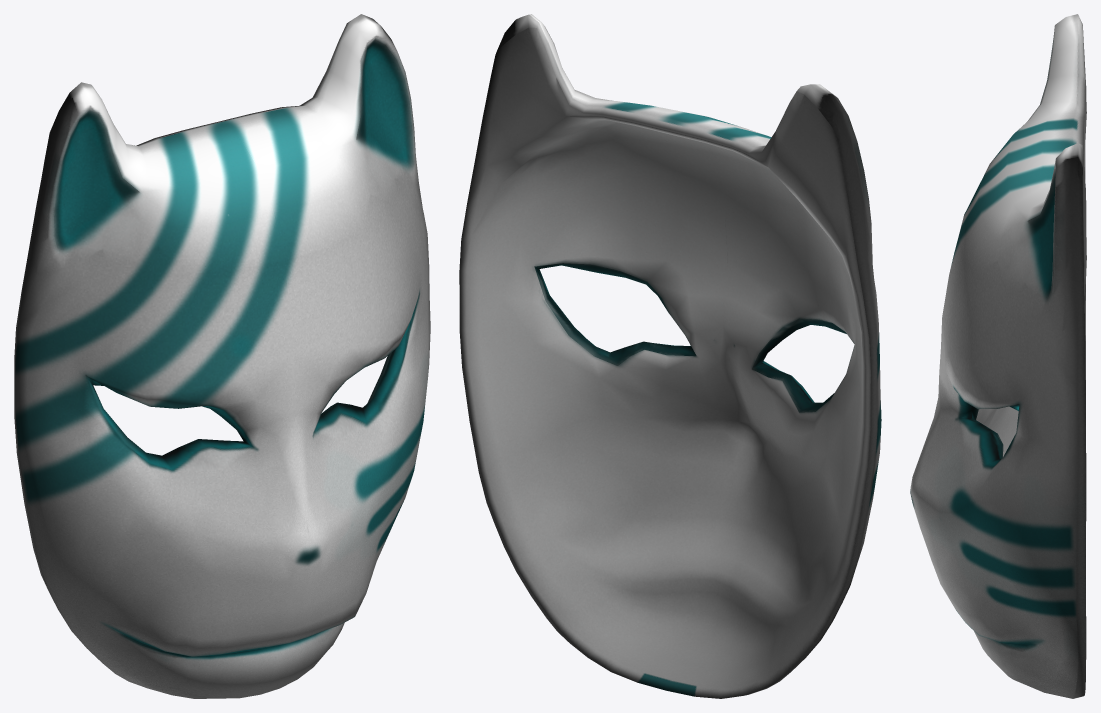
The model's file is mask_2.glb.
The picture shows the model from 3 angles, left to right: view 1: azimuth 30°, elevation 25°; view 2: azimuth 150°, elevation 25°; view 3: azimuth 270°, elevation 25°; orthographic projection. The views are drawn at different scales.
Bounding box in the file's own units: 2.75 × 4.06 × 1.09.
1 material, 1 textured.
